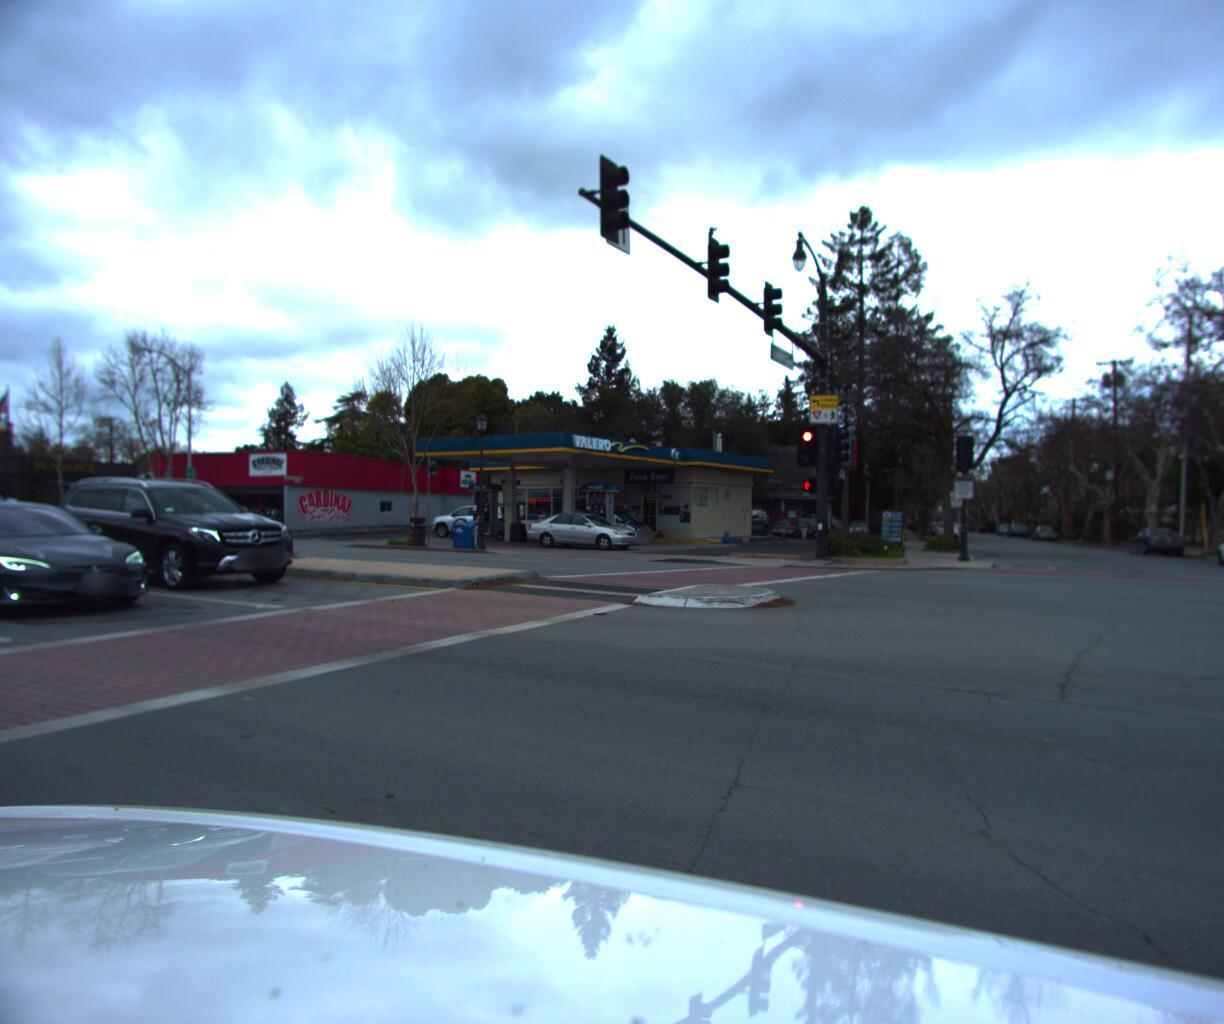bicycle: (267, 506, 293, 532), (260, 506, 287, 531), (254, 506, 280, 531)
car: (35, 472, 295, 599), (0, 495, 168, 619), (522, 511, 644, 553), (0, 475, 42, 571), (423, 506, 525, 542), (1119, 525, 1187, 553), (1202, 526, 1224, 565), (803, 516, 834, 540), (1024, 522, 1059, 538), (932, 518, 959, 539), (845, 518, 871, 538)
